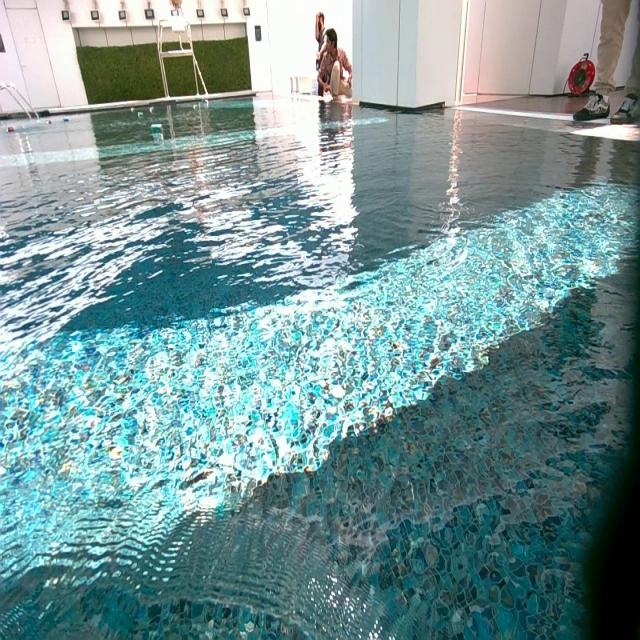Cans: (150, 125, 162, 135), (6, 126, 15, 135), (203, 100, 210, 107), (148, 106, 154, 114), (138, 112, 144, 119), (46, 118, 52, 125), (192, 104, 198, 111), (63, 117, 70, 122), (130, 108, 136, 113)
